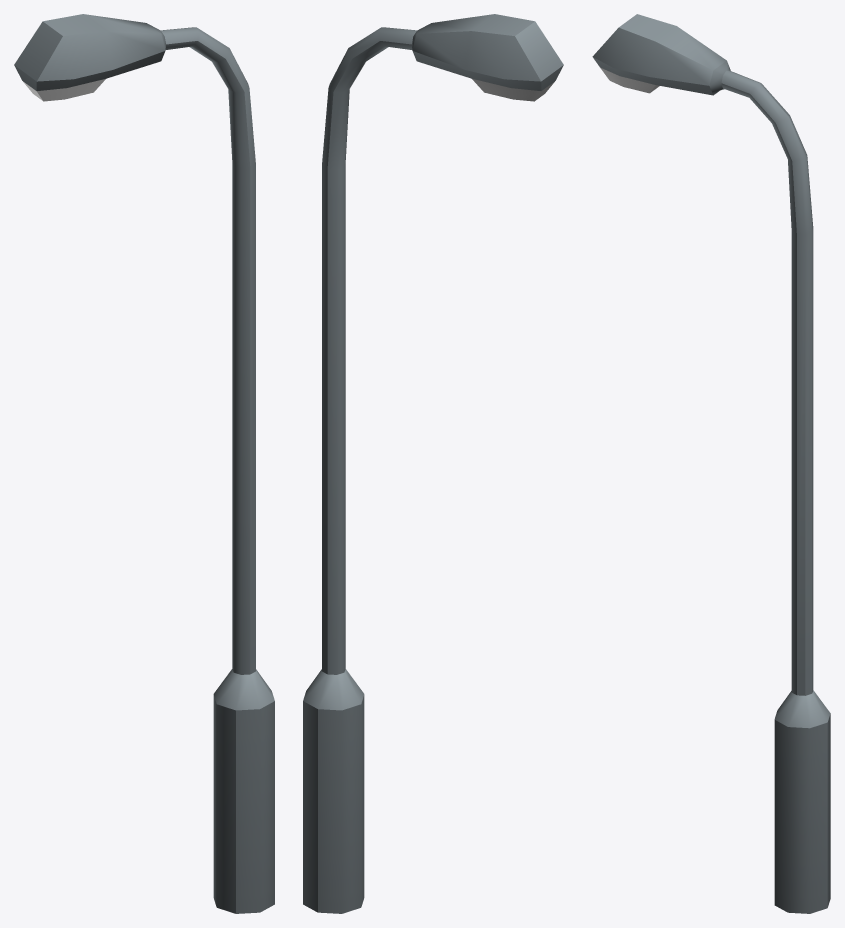
Rendered from streetlight_lit.glb.
3 views of the same model, side by side, from view 1: azimuth 30°, elevation 25°; view 2: azimuth 150°, elevation 25°; view 3: azimuth 330°, elevation 25° (orthographic). The views are drawn at different scales.
Visible parts, largest first — view 1: streetlight; view 2: streetlight; view 3: streetlight.
Boxes of the visible parts, bbox=[...] form: streetlight: bbox=[14, 14, 274, 913]; streetlight: bbox=[303, 14, 563, 913]; streetlight: bbox=[592, 14, 830, 913].
Bounding box in the file's own units: 0.2693 × 0.9599 × 0.069.
Materials: 2 (1 with a texture image).
